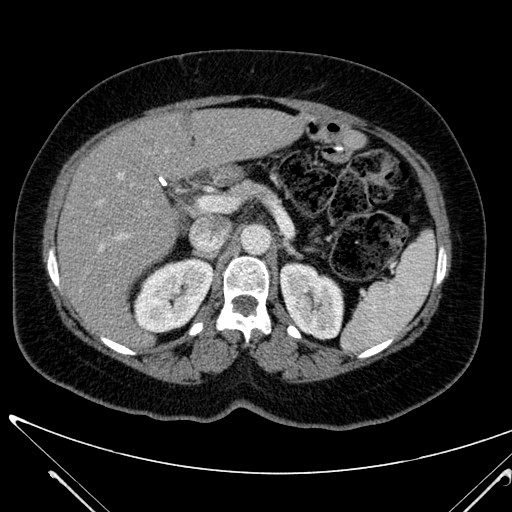clipe: (157, 175, 168, 187)
